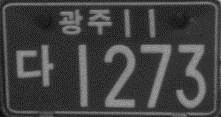1: (75, 42, 90, 108), (122, 6, 133, 40), (146, 6, 157, 39)
2: (102, 43, 136, 109)
3: (174, 42, 206, 109)
7: (138, 42, 172, 110)
광주_O: (58, 7, 112, 36)
다: (14, 43, 55, 89)
